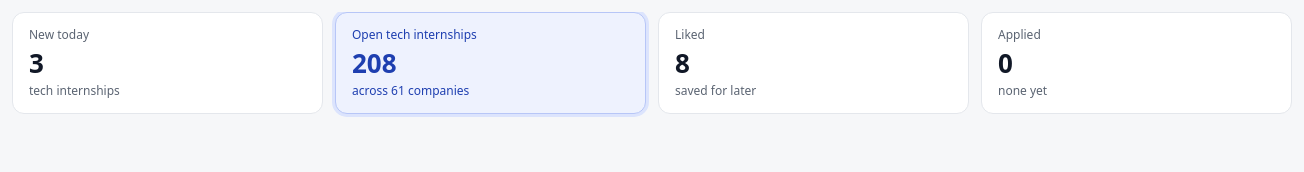
Test: {} sets its filter in the URL and shows as active
The width and height of the screenshot is (1304, 172).
What coordinates should you click on to do the following:
click the button "New today 3 tech internships"
I would click on:
 (59, 34)
Its box is [12, 12, 323, 114].
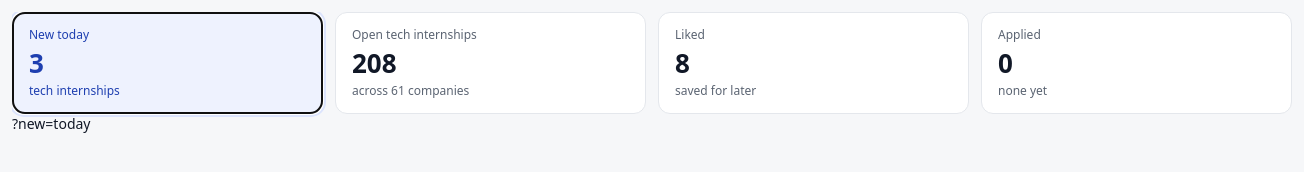
Expected: the text with test id "query" reads "?new=today", [12, 114, 90, 133]
